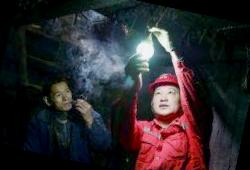no_helmet: (34, 70, 82, 118)
